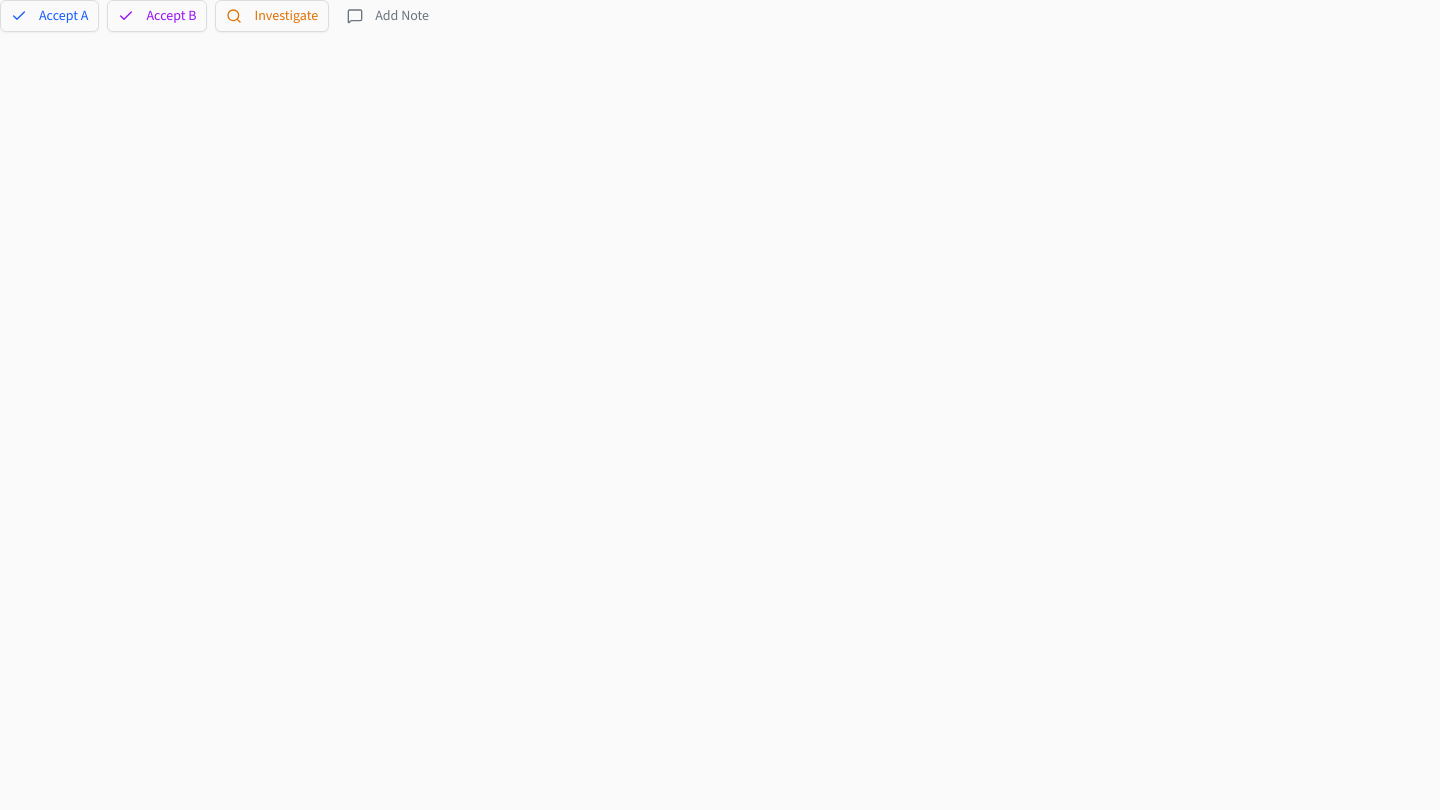
it: ContradictionActions › Investigate Action (AC6) › opens note dialog when Investigate is clicked
This screenshot has width=1440, height=810.
Click the button with aria-label "mark for investigation": (272, 16) top-left (216, 0), bottom-right (329, 32)
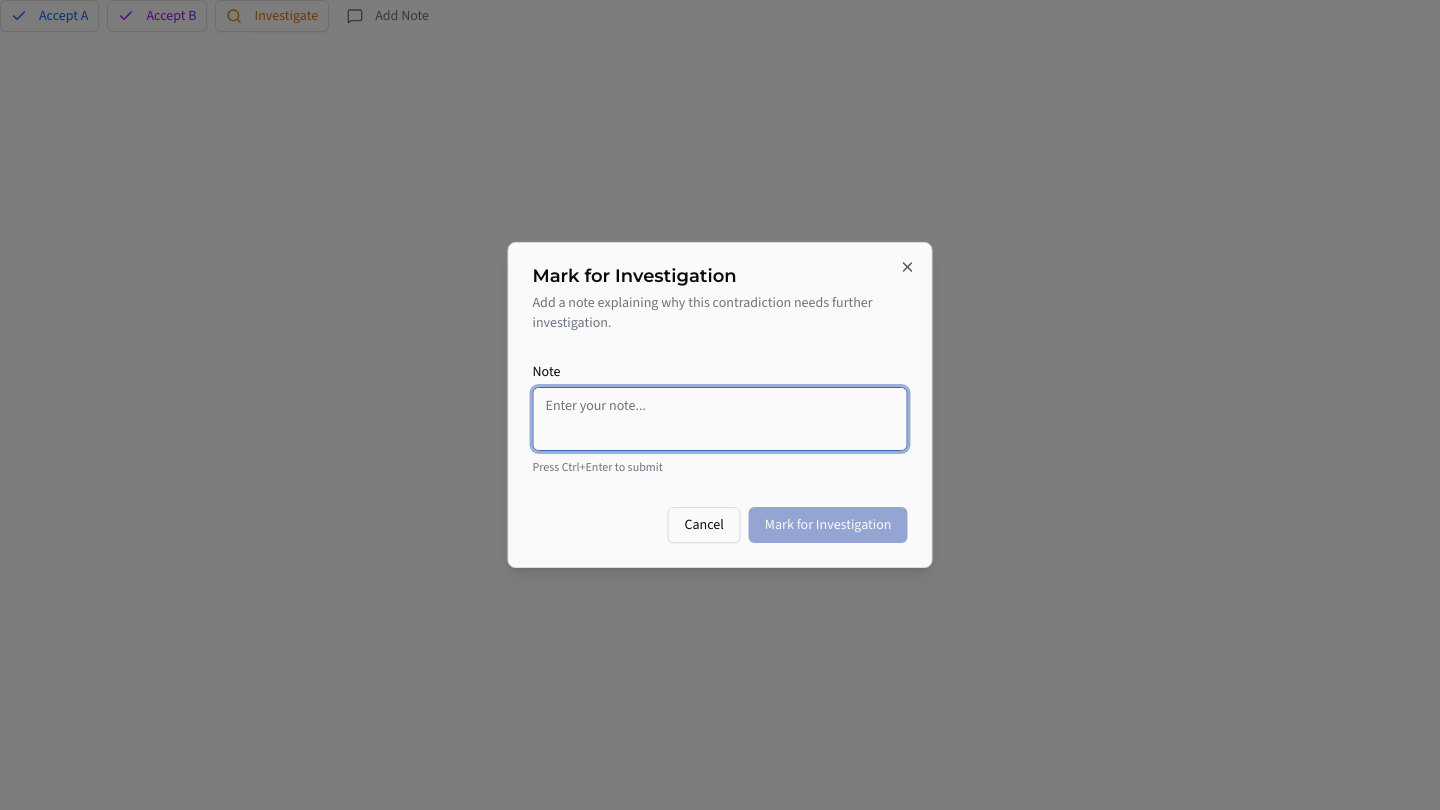
Now the dialog is shown, box top-left (508, 242), bottom-right (932, 568)
Now the text box labelled "Note" is shown, box top-left (532, 387), bottom-right (908, 451)
